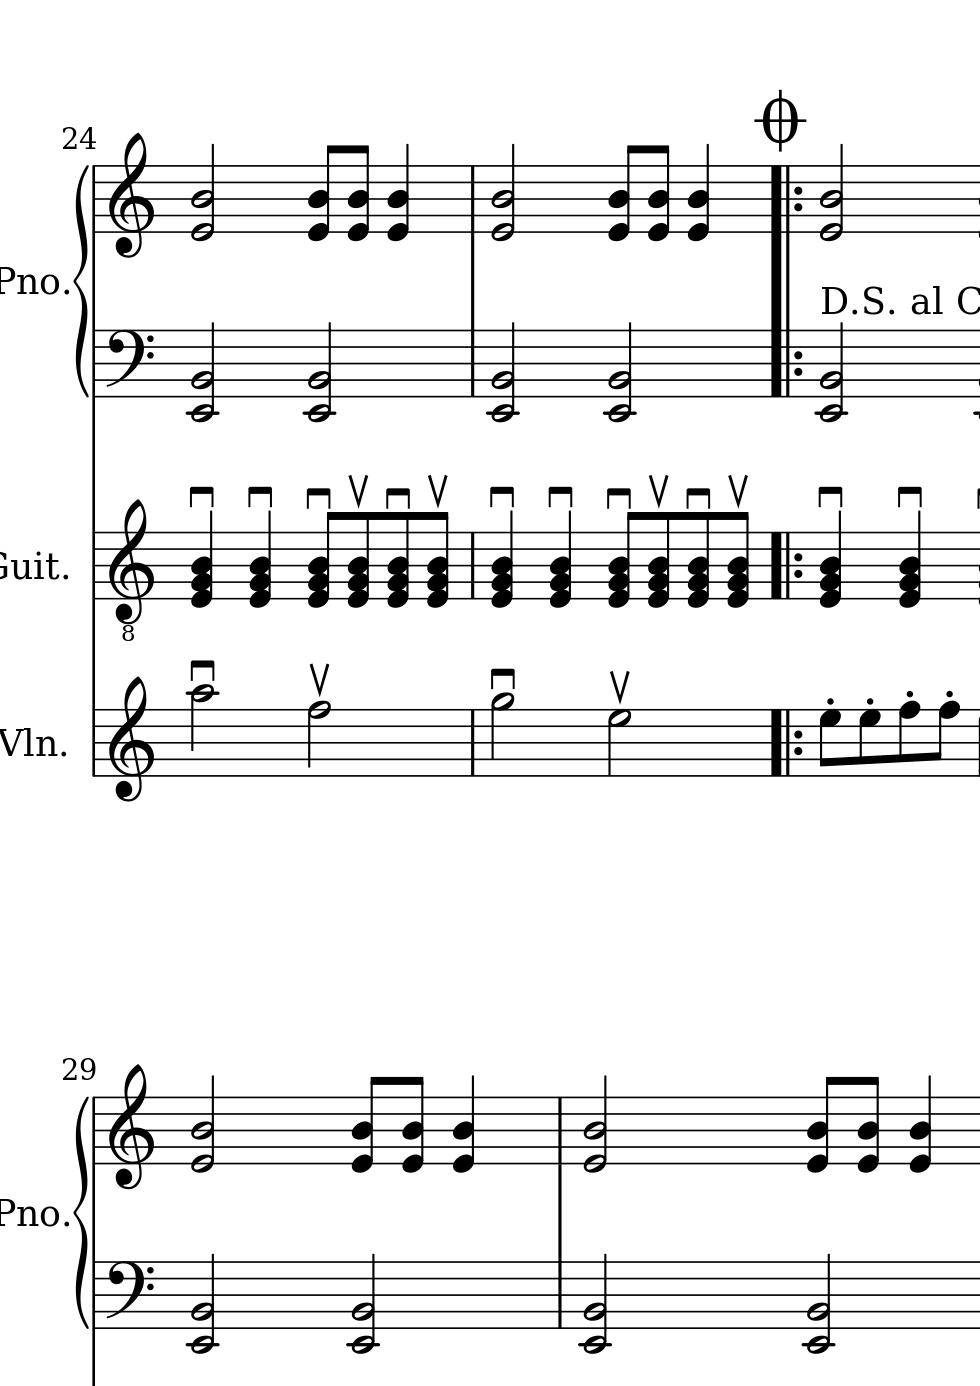2: (60, 1055, 78, 1083), (60, 125, 78, 152)
2_-2_2: (799, 1255, 836, 1357), (183, 322, 221, 424), (299, 320, 336, 422), (485, 321, 522, 423), (600, 320, 637, 422), (811, 322, 848, 424), (183, 1251, 221, 1353), (345, 1253, 382, 1355), (576, 1255, 613, 1356)
2_0_4: (190, 144, 215, 243), (491, 142, 517, 241), (819, 143, 844, 242), (191, 1074, 216, 1173), (584, 1075, 609, 1174)
2_10: (186, 683, 218, 780)
2_7: (606, 708, 632, 778)
2_8: (305, 699, 334, 779)
2_9: (488, 692, 514, 779)
4: (78, 125, 97, 152)
4_0_4: (386, 144, 412, 241), (453, 1076, 478, 1173), (907, 1076, 932, 1173), (685, 144, 710, 241)
4_th: (187, 505, 216, 613), (488, 506, 517, 612), (246, 504, 274, 613), (895, 506, 923, 613), (816, 507, 844, 610), (546, 505, 573, 612)
8_0_4: (307, 144, 337, 242), (605, 143, 635, 241), (350, 1075, 380, 1173), (804, 1075, 834, 1173), (347, 144, 371, 241), (646, 144, 670, 241), (856, 1077, 880, 1174), (402, 1077, 426, 1174)
8_7: (857, 708, 881, 778), (818, 708, 841, 778)
8_8: (931, 699, 961, 778), (896, 700, 921, 778)
8_th: (606, 508, 638, 611), (304, 507, 336, 611), (725, 510, 751, 610), (646, 512, 671, 610), (685, 510, 710, 611), (425, 508, 449, 612), (386, 512, 410, 610), (347, 510, 370, 611)
9: (78, 1055, 97, 1082)
Brace: (70, 1095, 89, 1330), (72, 163, 91, 394)
Coda: (754, 88, 805, 151)
Down_bow: (813, 483, 846, 510), (544, 483, 575, 510), (185, 484, 216, 510), (244, 483, 275, 509), (487, 484, 518, 510), (894, 484, 925, 510), (488, 666, 517, 694), (303, 485, 333, 511), (603, 485, 633, 511), (382, 485, 413, 510), (682, 485, 713, 510), (187, 657, 217, 683)
Fclef: (103, 329, 156, 400), (104, 1260, 156, 1331)
Gclef: (106, 676, 157, 805), (107, 1062, 156, 1191), (107, 131, 156, 260)
Guit: (1, 548, 60, 585)
LeftRepeatSign: (766, 708, 804, 778), (766, 330, 804, 397), (768, 165, 804, 233)
Lower_Gclef: (106, 498, 157, 644)
Pno: (1, 1195, 59, 1233), (1, 264, 60, 300)
Single_barline: (463, 710, 482, 775), (552, 1098, 568, 1165), (463, 166, 480, 232), (463, 331, 480, 396), (552, 1262, 567, 1329), (463, 533, 479, 599), (88, 1098, 101, 1165), (88, 166, 101, 233), (87, 533, 100, 600), (87, 710, 100, 777), (89, 330, 101, 397), (89, 1261, 101, 1328)
Tremolo_bar: (608, 667, 631, 708), (424, 472, 449, 509), (647, 472, 670, 509), (308, 661, 329, 701), (727, 472, 749, 509), (347, 473, 369, 509)
Vln: (1, 723, 58, 762)
